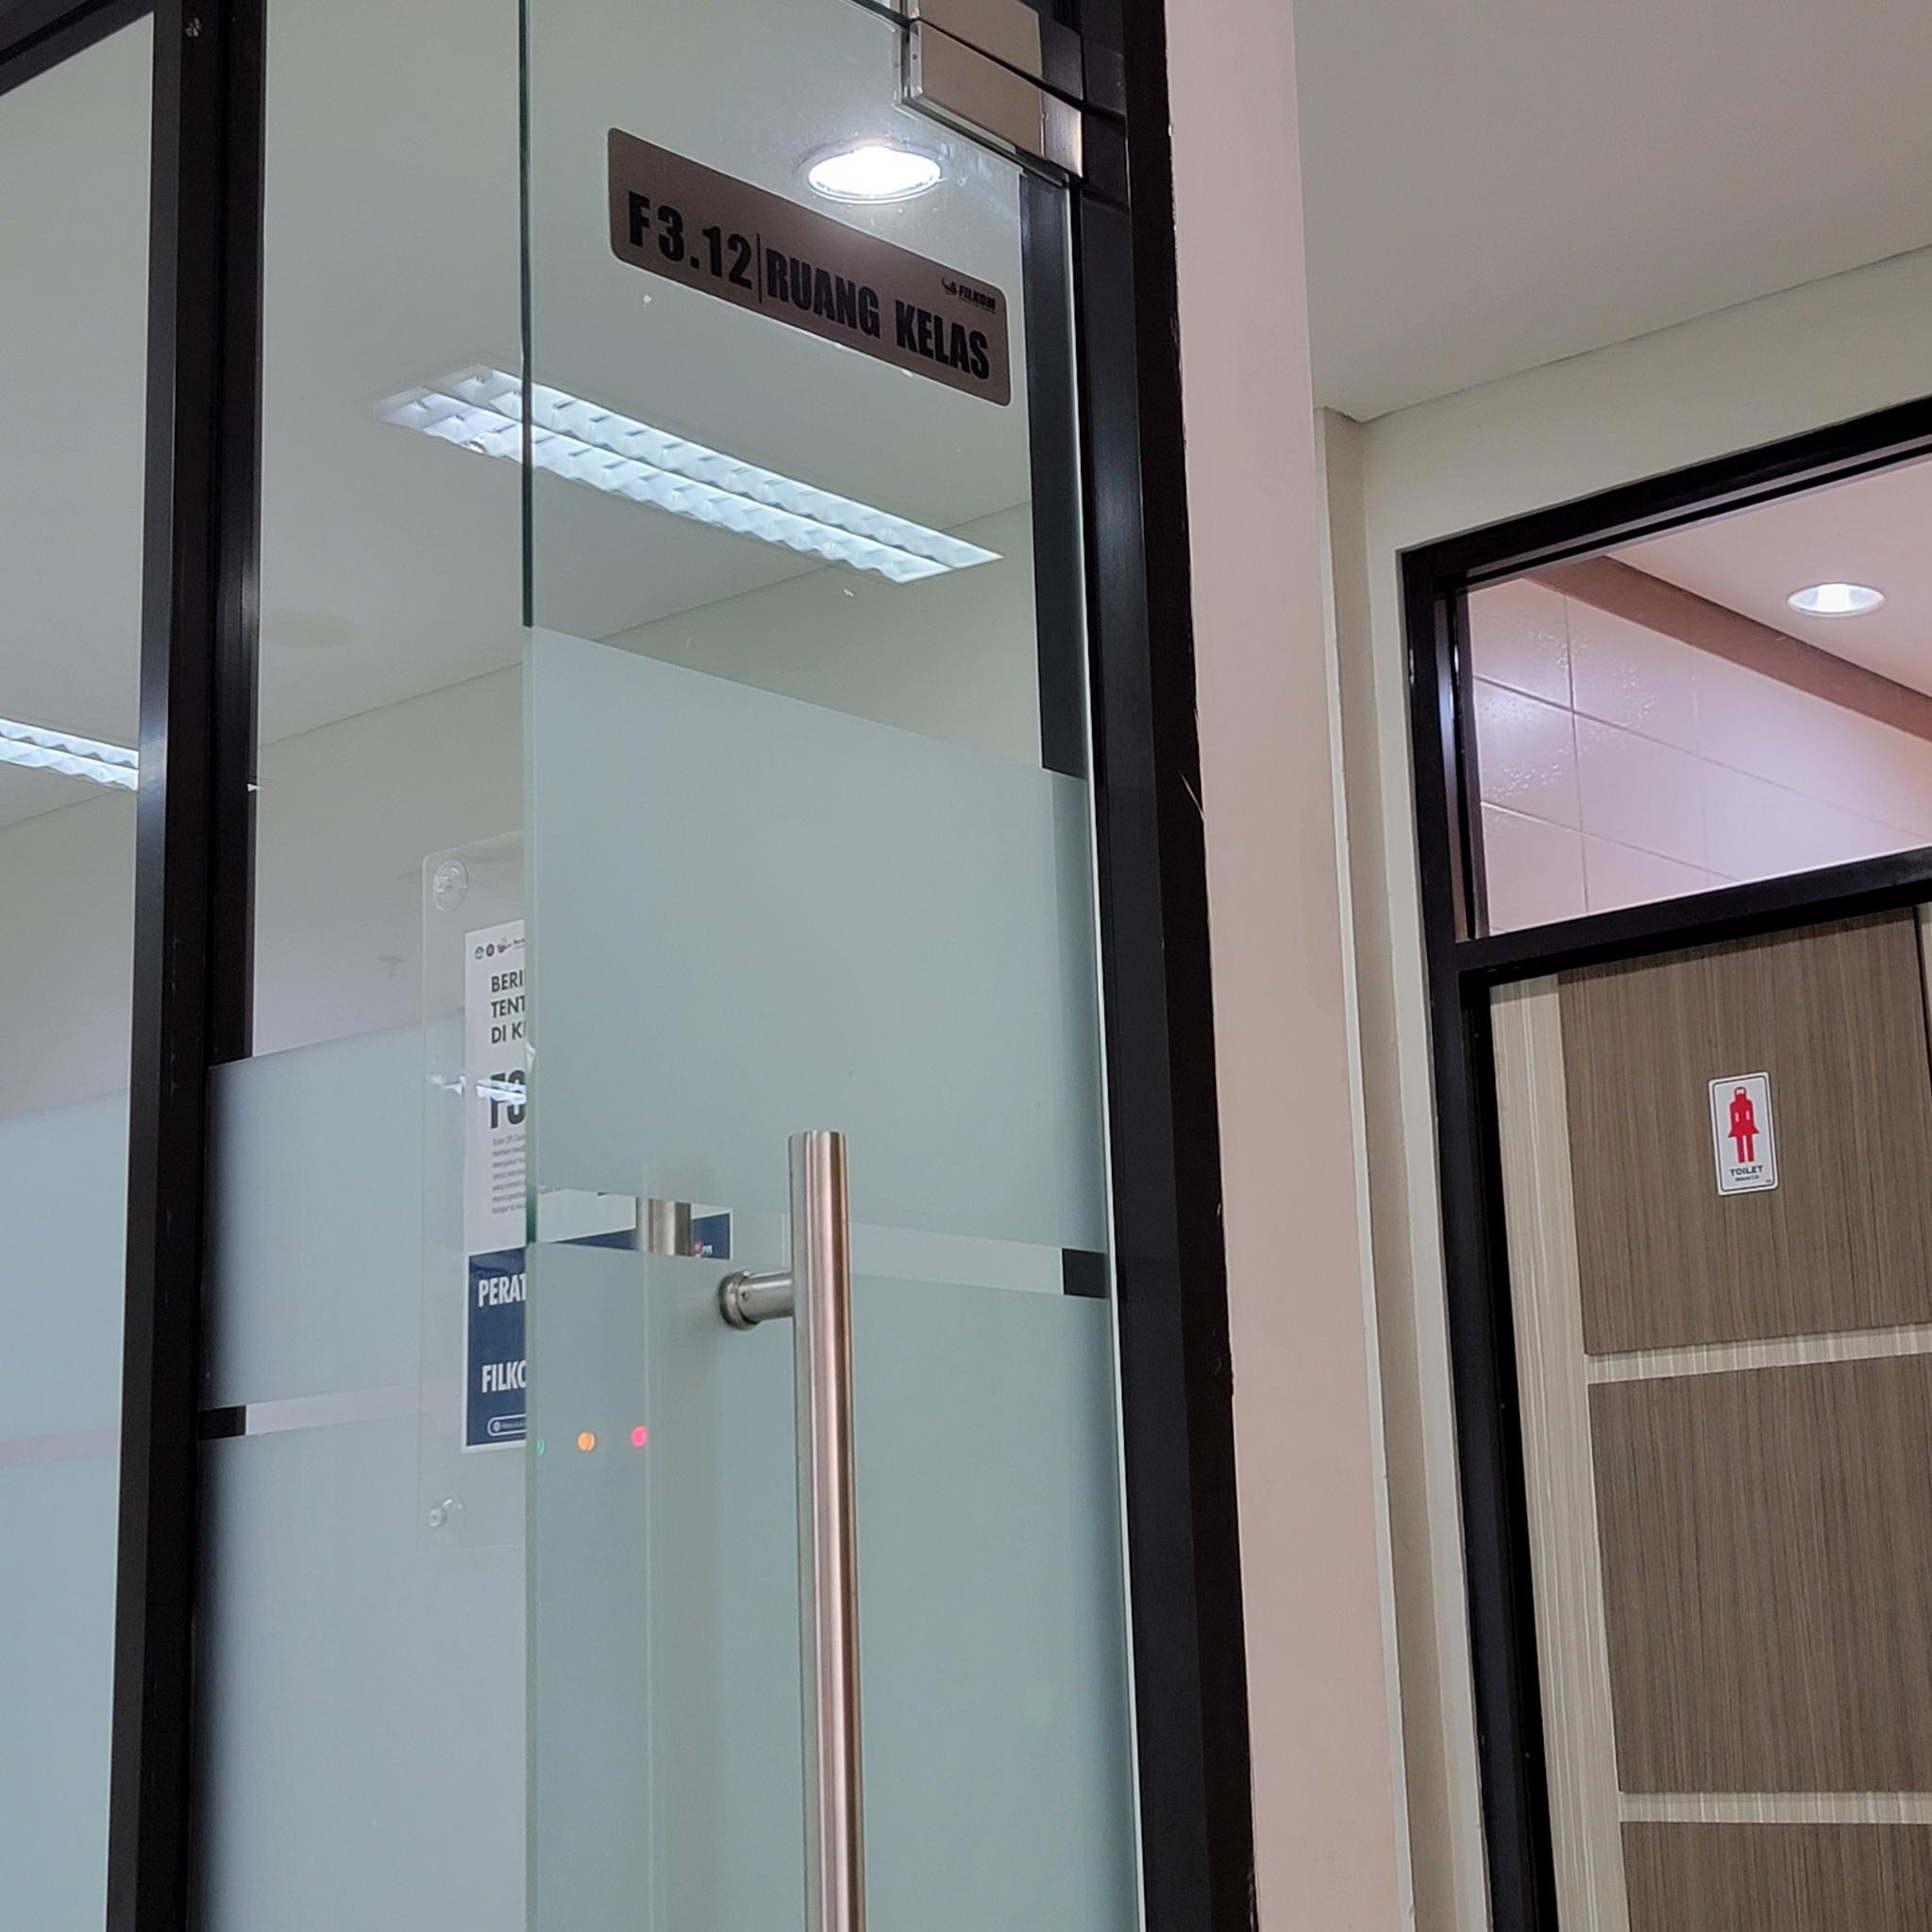plate: (609, 124, 1012, 409)
